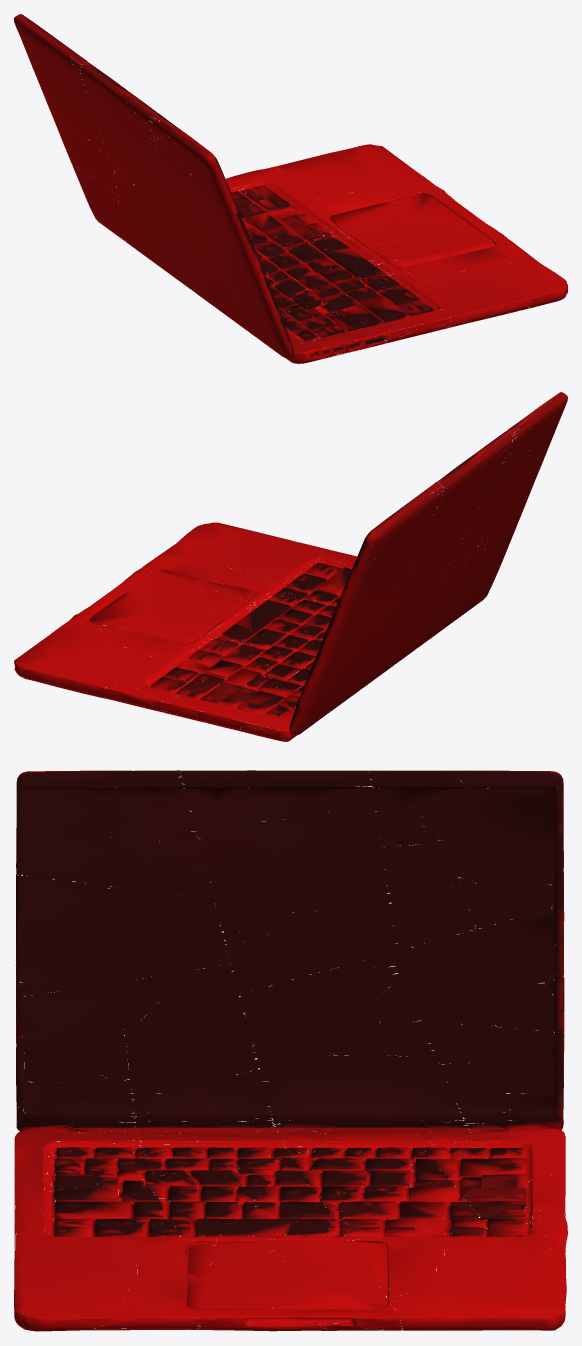
File: laptop.glb
3 views of the same model, one above another, from view 1: azimuth 30°, elevation 25°; view 2: azimuth 150°, elevation 25°; view 3: azimuth 270°, elevation 25° (orthographic). The views are drawn at different scales.
Parts seen in each view (by area): view 1: tripo_node_59a7570a-1bf3-4cb1-b7e8-f90ff36f9b55; view 2: tripo_node_59a7570a-1bf3-4cb1-b7e8-f90ff36f9b55; view 3: tripo_node_59a7570a-1bf3-4cb1-b7e8-f90ff36f9b55.
Boxes of the visible parts, bbox=[...] form: tripo_node_59a7570a-1bf3-4cb1-b7e8-f90ff36f9b55: bbox=[14, 14, 567, 363]; tripo_node_59a7570a-1bf3-4cb1-b7e8-f90ff36f9b55: bbox=[14, 392, 567, 741]; tripo_node_59a7570a-1bf3-4cb1-b7e8-f90ff36f9b55: bbox=[14, 770, 567, 1331].
Bounding box in the file's own units: 0.9816 × 0.6029 × 0.9243.
